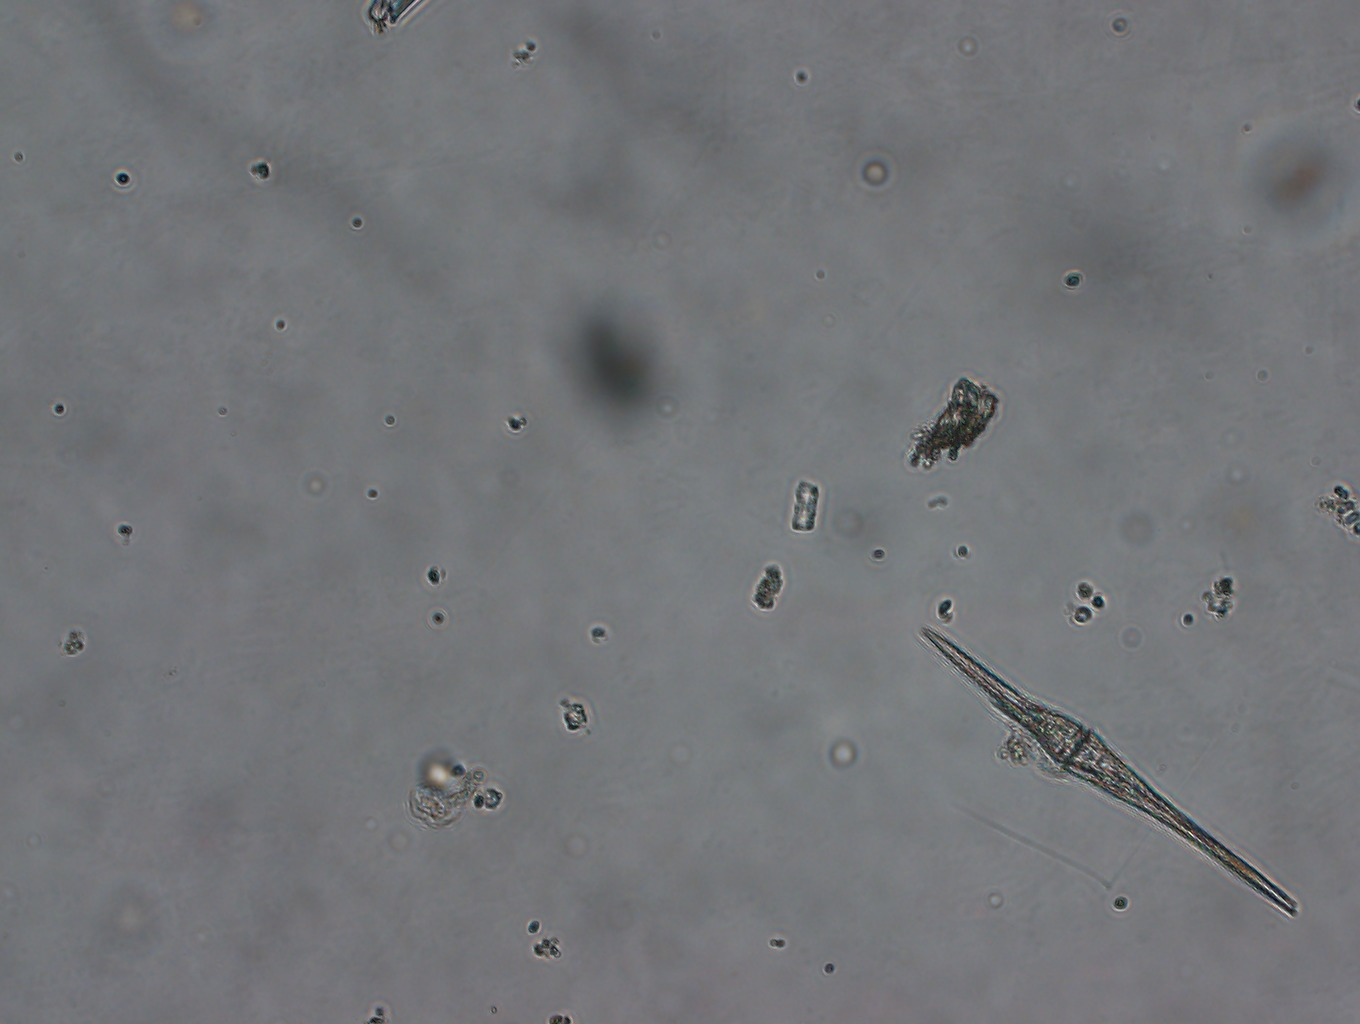ceratium furca: (897, 611, 1314, 923)
